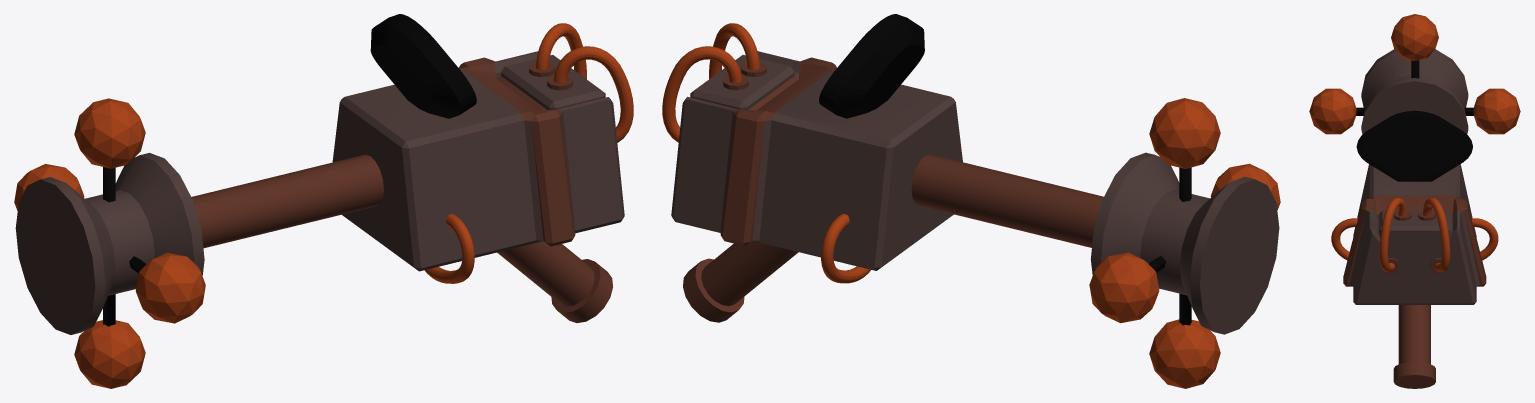
Rendered from Dosimeter.fbx.
3 renders of one model, left to right at view 1: azimuth 30°, elevation 25°; view 2: azimuth 150°, elevation 25°; view 3: azimuth 270°, elevation 25°, orthographic. The views are drawn at different scales.
Visible parts, largest first — view 1: Cube, Cylinder.001, Cylinder, Cube.001, Cylinder.002, Icosphere.002, Icosphere, Icosphere.003, Vert.002, Vert.001, Icosphere.001, Cylinder.003; view 2: Cube, Cylinder.001, Cylinder, Cube.001, Cylinder.002, Icosphere.002, Icosphere.001, Icosphere.003, Vert.002, Vert.001, Icosphere, Cylinder.003; view 3: Cube, Cylinder.001, Cube.001, Cylinder.002, Icosphere, Icosphere.001, Icosphere.002, Vert.002, Vert.001, Cylinder.006, Cylinder.005.
Part boxes in pixels (left/top/right/bottom): Cube: left=332, top=51, right=624, bottom=271; Cylinder.001: left=15, top=153, right=204, bottom=334; Cylinder: left=191, top=154, right=383, bottom=248; Cube.001: left=370, top=14, right=476, bottom=118; Cylinder.002: left=497, top=241, right=612, bottom=322; Icosphere.002: left=74, top=98, right=145, bottom=168; Icosphere: left=135, top=253, right=205, bottom=323; Icosphere.003: left=74, top=320, right=145, bottom=388; Vert.002: left=536, top=23, right=633, bottom=142; Vert.001: left=424, top=214, right=474, bottom=283; Icosphere.001: left=14, top=164, right=84, bottom=210; Cylinder.003: left=103, top=167, right=115, bottom=326; Cube: left=671, top=51, right=962, bottom=270; Cylinder.001: left=1090, top=152, right=1279, bottom=334; Cylinder: left=911, top=154, right=1103, bottom=247; Cube.001: left=819, top=14, right=924, bottom=118; Cylinder.002: left=683, top=241, right=798, bottom=322; Icosphere.002: left=1149, top=98, right=1220, bottom=168; Icosphere.001: left=1089, top=252, right=1159, bottom=323; Icosphere.003: left=1149, top=319, right=1220, bottom=388; Vert.002: left=662, top=23, right=759, bottom=142; Vert.001: left=821, top=214, right=870, bottom=283; Icosphere: left=1210, top=163, right=1280, bottom=210; Cylinder.003: left=1179, top=167, right=1191, bottom=325; Cube: left=1343, top=164, right=1486, bottom=304; Cylinder.001: left=1361, top=49, right=1468, bottom=134; Cube.001: left=1356, top=110, right=1472, bottom=181; Cylinder.002: left=1393, top=305, right=1435, bottom=388; Icosphere: left=1309, top=88, right=1356, bottom=134; Icosphere.001: left=1473, top=88, right=1520, bottom=134; Icosphere.002: left=1391, top=14, right=1438, bottom=60; Vert.002: left=1379, top=198, right=1450, bottom=272; Vert.001: left=1331, top=218, right=1498, bottom=260; Cylinder.006: left=1383, top=258, right=1446, bottom=274; Cylinder.005: left=1394, top=211, right=1435, bottom=220.
Size of the model in its own units: 0.9638 by 0.5613 by 0.474.
